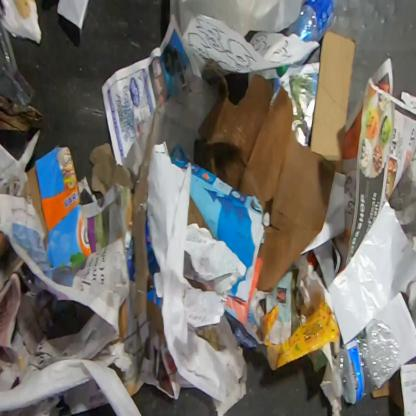cardboard: (199, 72, 336, 294), (22, 146, 93, 288), (132, 111, 164, 333), (310, 29, 356, 162), (0, 93, 45, 133)
rigid_plastic: (332, 319, 401, 406), (0, 20, 37, 108), (283, 0, 339, 44), (276, 59, 307, 78)
soft_plastic: (254, 302, 340, 370)
